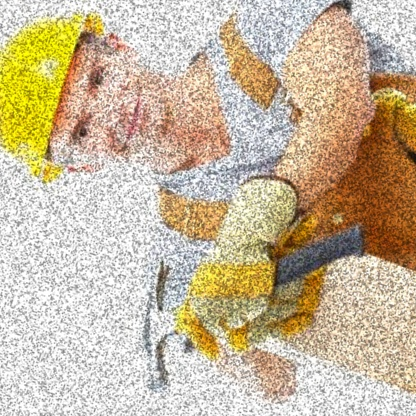yellow: (0, 0, 121, 197)
